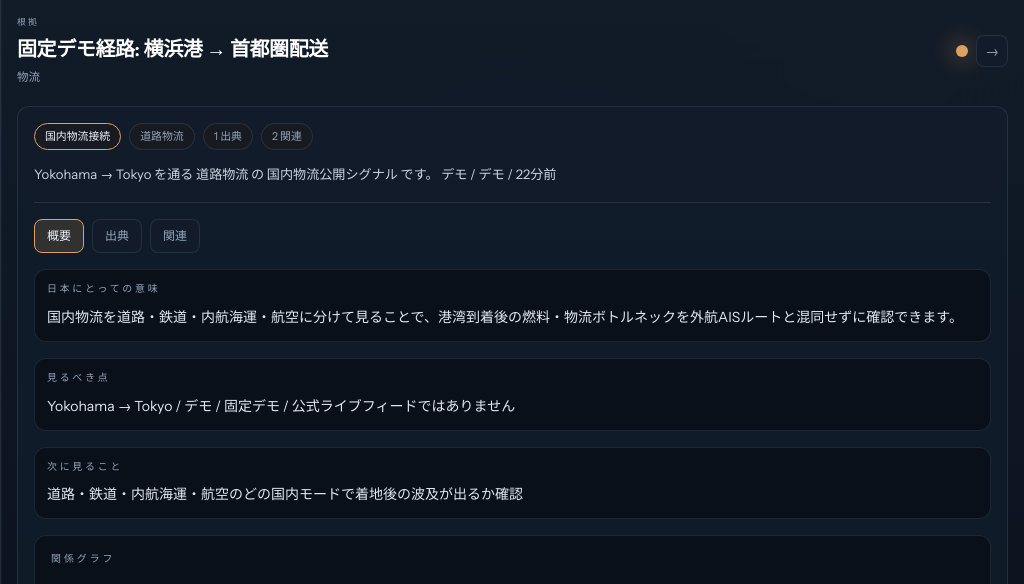
Test: evidence panel structure › renders an actual demo fallback source without a false freshness date
This screenshot has width=1024, height=584.
Click the button "出典": (117, 236) [92, 219, 142, 253]
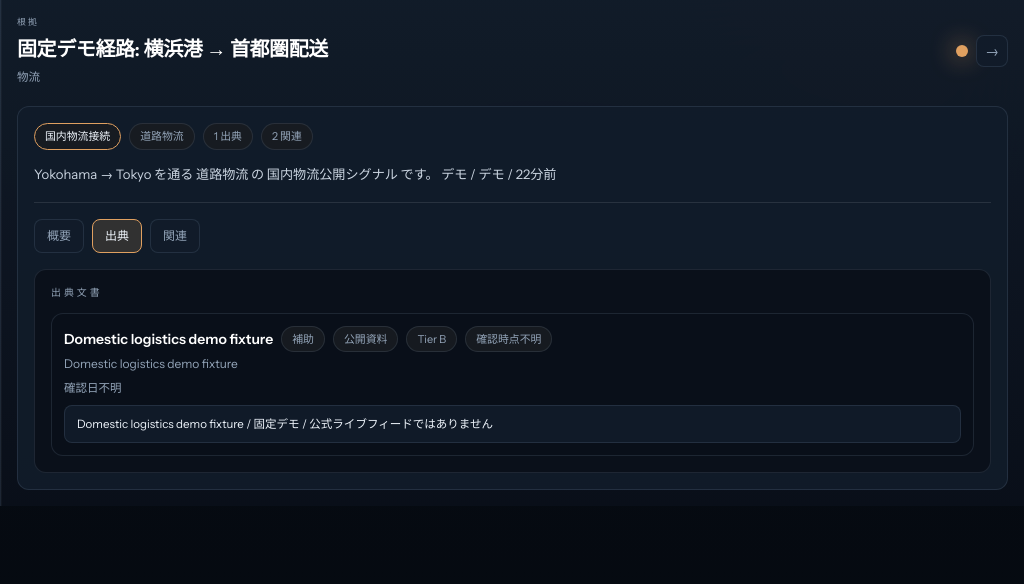
Result: the text "Domestic logistics demo fixture" is shown 2 times at [64, 329, 273, 349]; [64, 356, 238, 371]
Result: the text "確認時点不明" is shown at [465, 326, 552, 352]
Result: the text "確認日不明" is shown at [64, 381, 122, 395]
